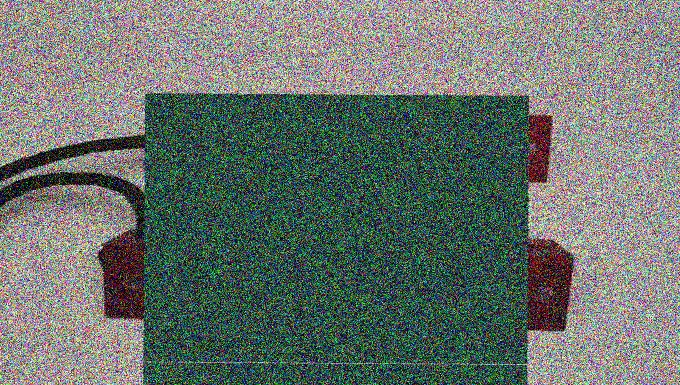chock: (92, 227, 578, 334), (131, 105, 559, 185)
